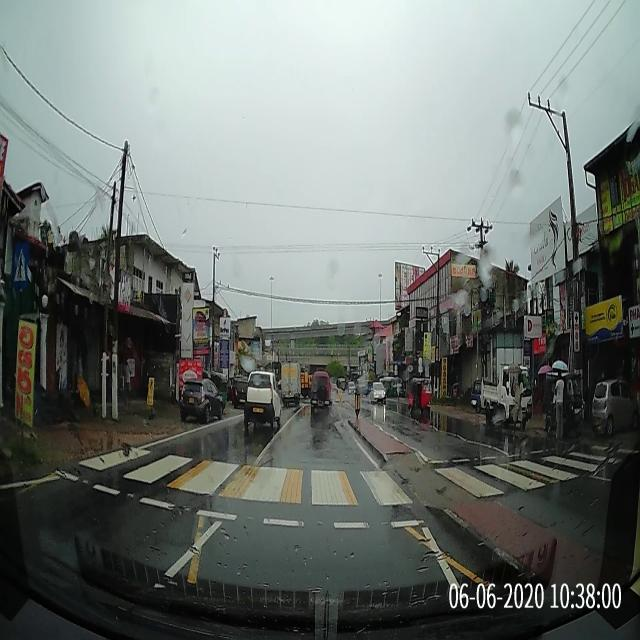Crosswalk: (44, 438, 640, 533)
